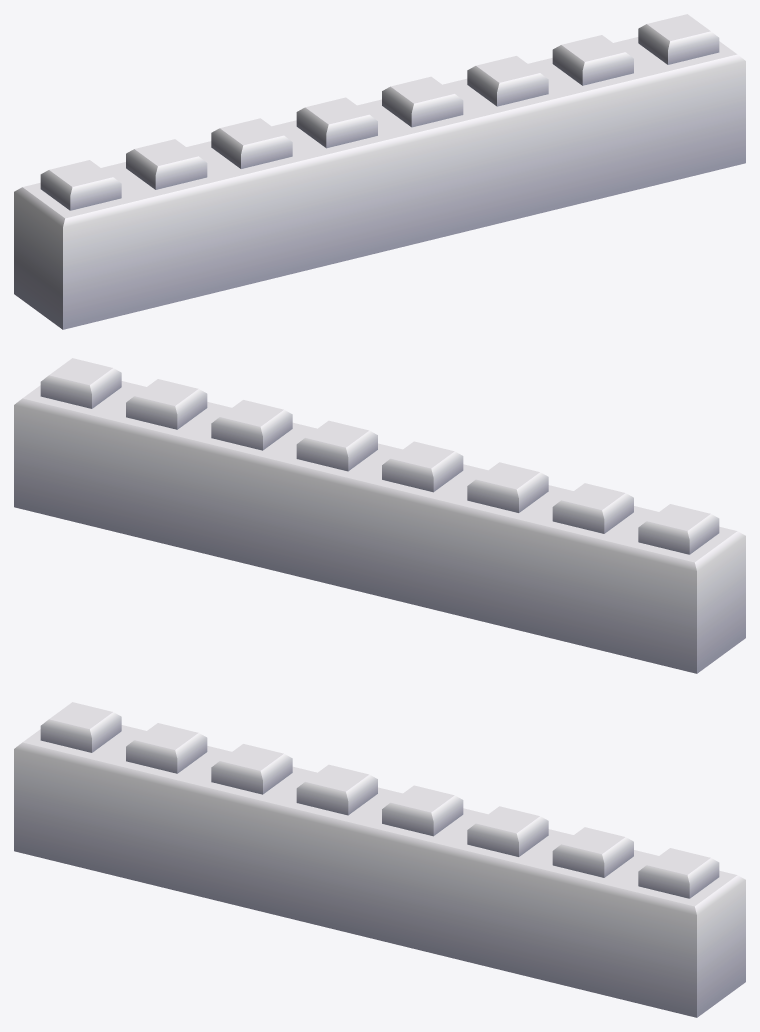
Rendered from kenney-brick-square-hq-brick-1-x-8.glb.
The picture shows the model from 3 angles, top to bottom: view 1: azimuth 30°, elevation 25°; view 2: azimuth 150°, elevation 25°; view 3: azimuth 330°, elevation 25°; orthographic projection.
Parts seen in each view (by area): view 1: square-hq-brick-1x8; view 2: square-hq-brick-1x8; view 3: square-hq-brick-1x8.
Part boxes in pixels (x1=…): square-hq-brick-1x8: x1=14, y1=14, x2=745, y2=329; square-hq-brick-1x8: x1=14, y1=358, x2=745, y2=673; square-hq-brick-1x8: x1=14, y1=702, x2=745, y2=1017.
Size of the model in its own units: 0.636 by 0.114 by 0.079.
Materials: 1 (1 with a texture image).
